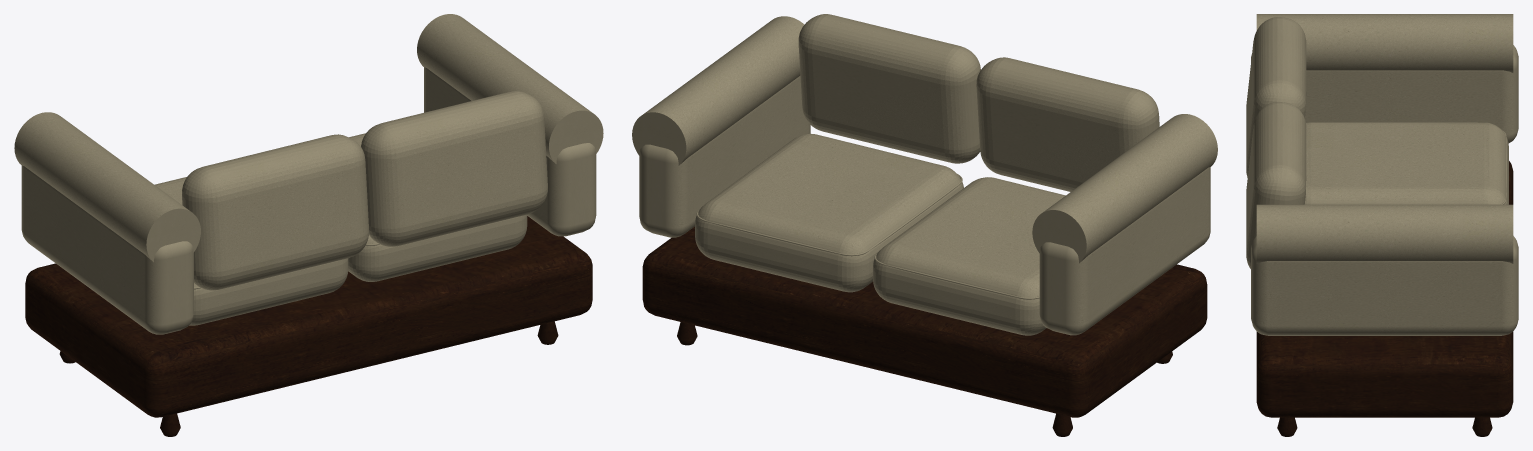
Rendered from luxury-linen-two-seat.glb.
The picture shows the model from 3 angles, left to right: view 1: azimuth 30°, elevation 25°; view 2: azimuth 150°, elevation 25°; view 3: azimuth 270°, elevation 25°; orthographic projection. The views are drawn at different scales.
Parts seen in each view (by area): view 1: linen_0, walnut_0; view 2: linen_0, walnut_0; view 3: linen_0, walnut_0.
Boxes of the visible parts, box(x1,y1,x2,y2) form: linen_0: box(14, 14, 603, 334); walnut_0: box(25, 216, 592, 436); linen_0: box(632, 14, 1217, 335); walnut_0: box(642, 226, 1207, 436); linen_0: box(1246, 14, 1518, 335); walnut_0: box(1256, 161, 1513, 436).
Size of the model in its own units: 1.84 by 1 by 0.9776.
2 materials, 2 textured.
